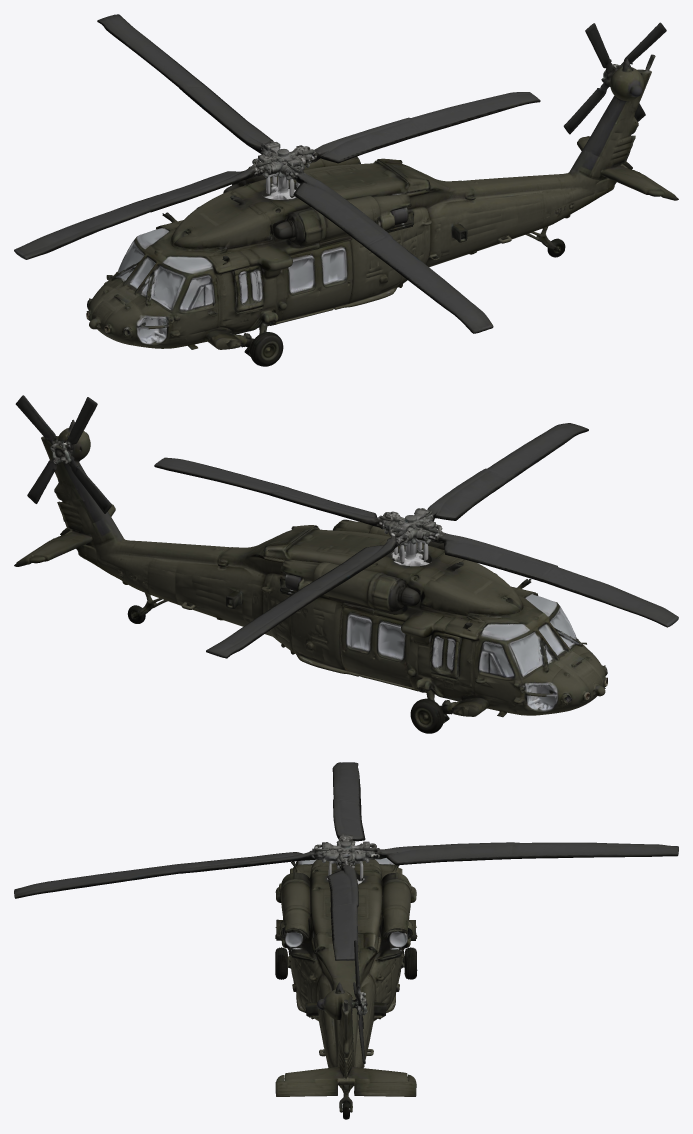
File: military_helicopter_blackhawk_gameready.glb
3 views of the same model, one above another, from view 1: azimuth 30°, elevation 25°; view 2: azimuth 150°, elevation 25°; view 3: azimuth 270°, elevation 25° (orthographic). The views are drawn at different scales.
Visible parts, largest first — view 1: tripo_node_2bfcfa04-476b-47b4-894b-83f624b430a5_0; view 2: tripo_node_2bfcfa04-476b-47b4-894b-83f624b430a5_0; view 3: tripo_node_2bfcfa04-476b-47b4-894b-83f624b430a5_0.
Boxes of the visible parts, box(x1,y1,x2,y2) form: tripo_node_2bfcfa04-476b-47b4-894b-83f624b430a5_0: box(14, 14, 678, 366); tripo_node_2bfcfa04-476b-47b4-894b-83f624b430a5_0: box(14, 395, 678, 733); tripo_node_2bfcfa04-476b-47b4-894b-83f624b430a5_0: box(14, 762, 678, 1119).
Bounding box in the file's own units: 0.9799 × 0.3191 × 0.9601.
Materials: 1 (1 with a texture image).
